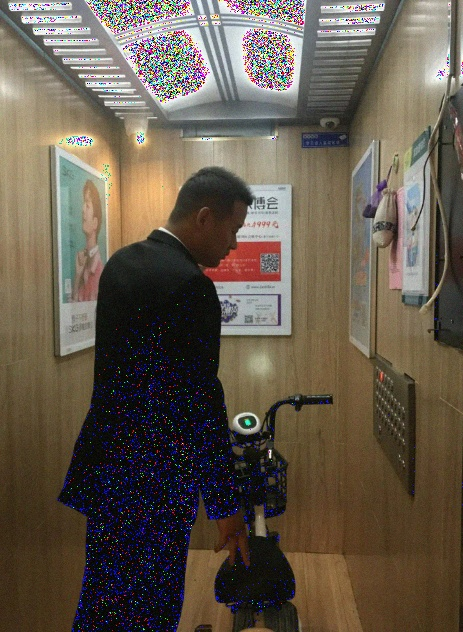ebike: (210, 391, 338, 632)
person: (81, 171, 256, 628)
